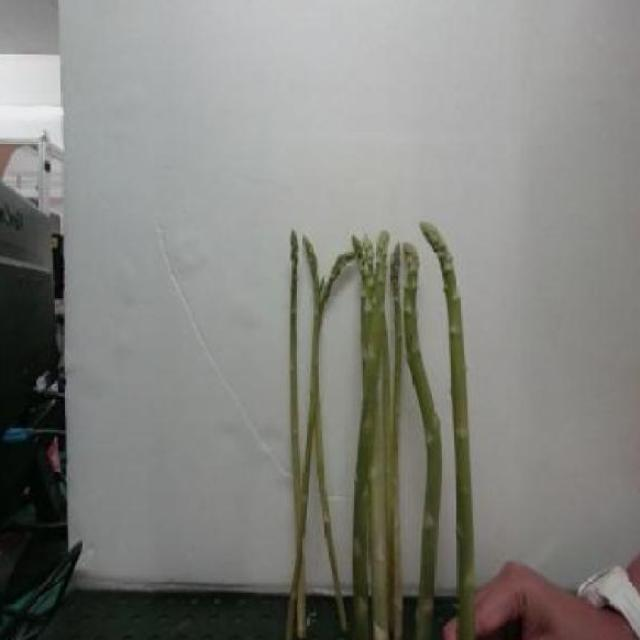aspargus: (419, 223, 474, 640), (401, 242, 441, 640), (287, 234, 321, 640)
